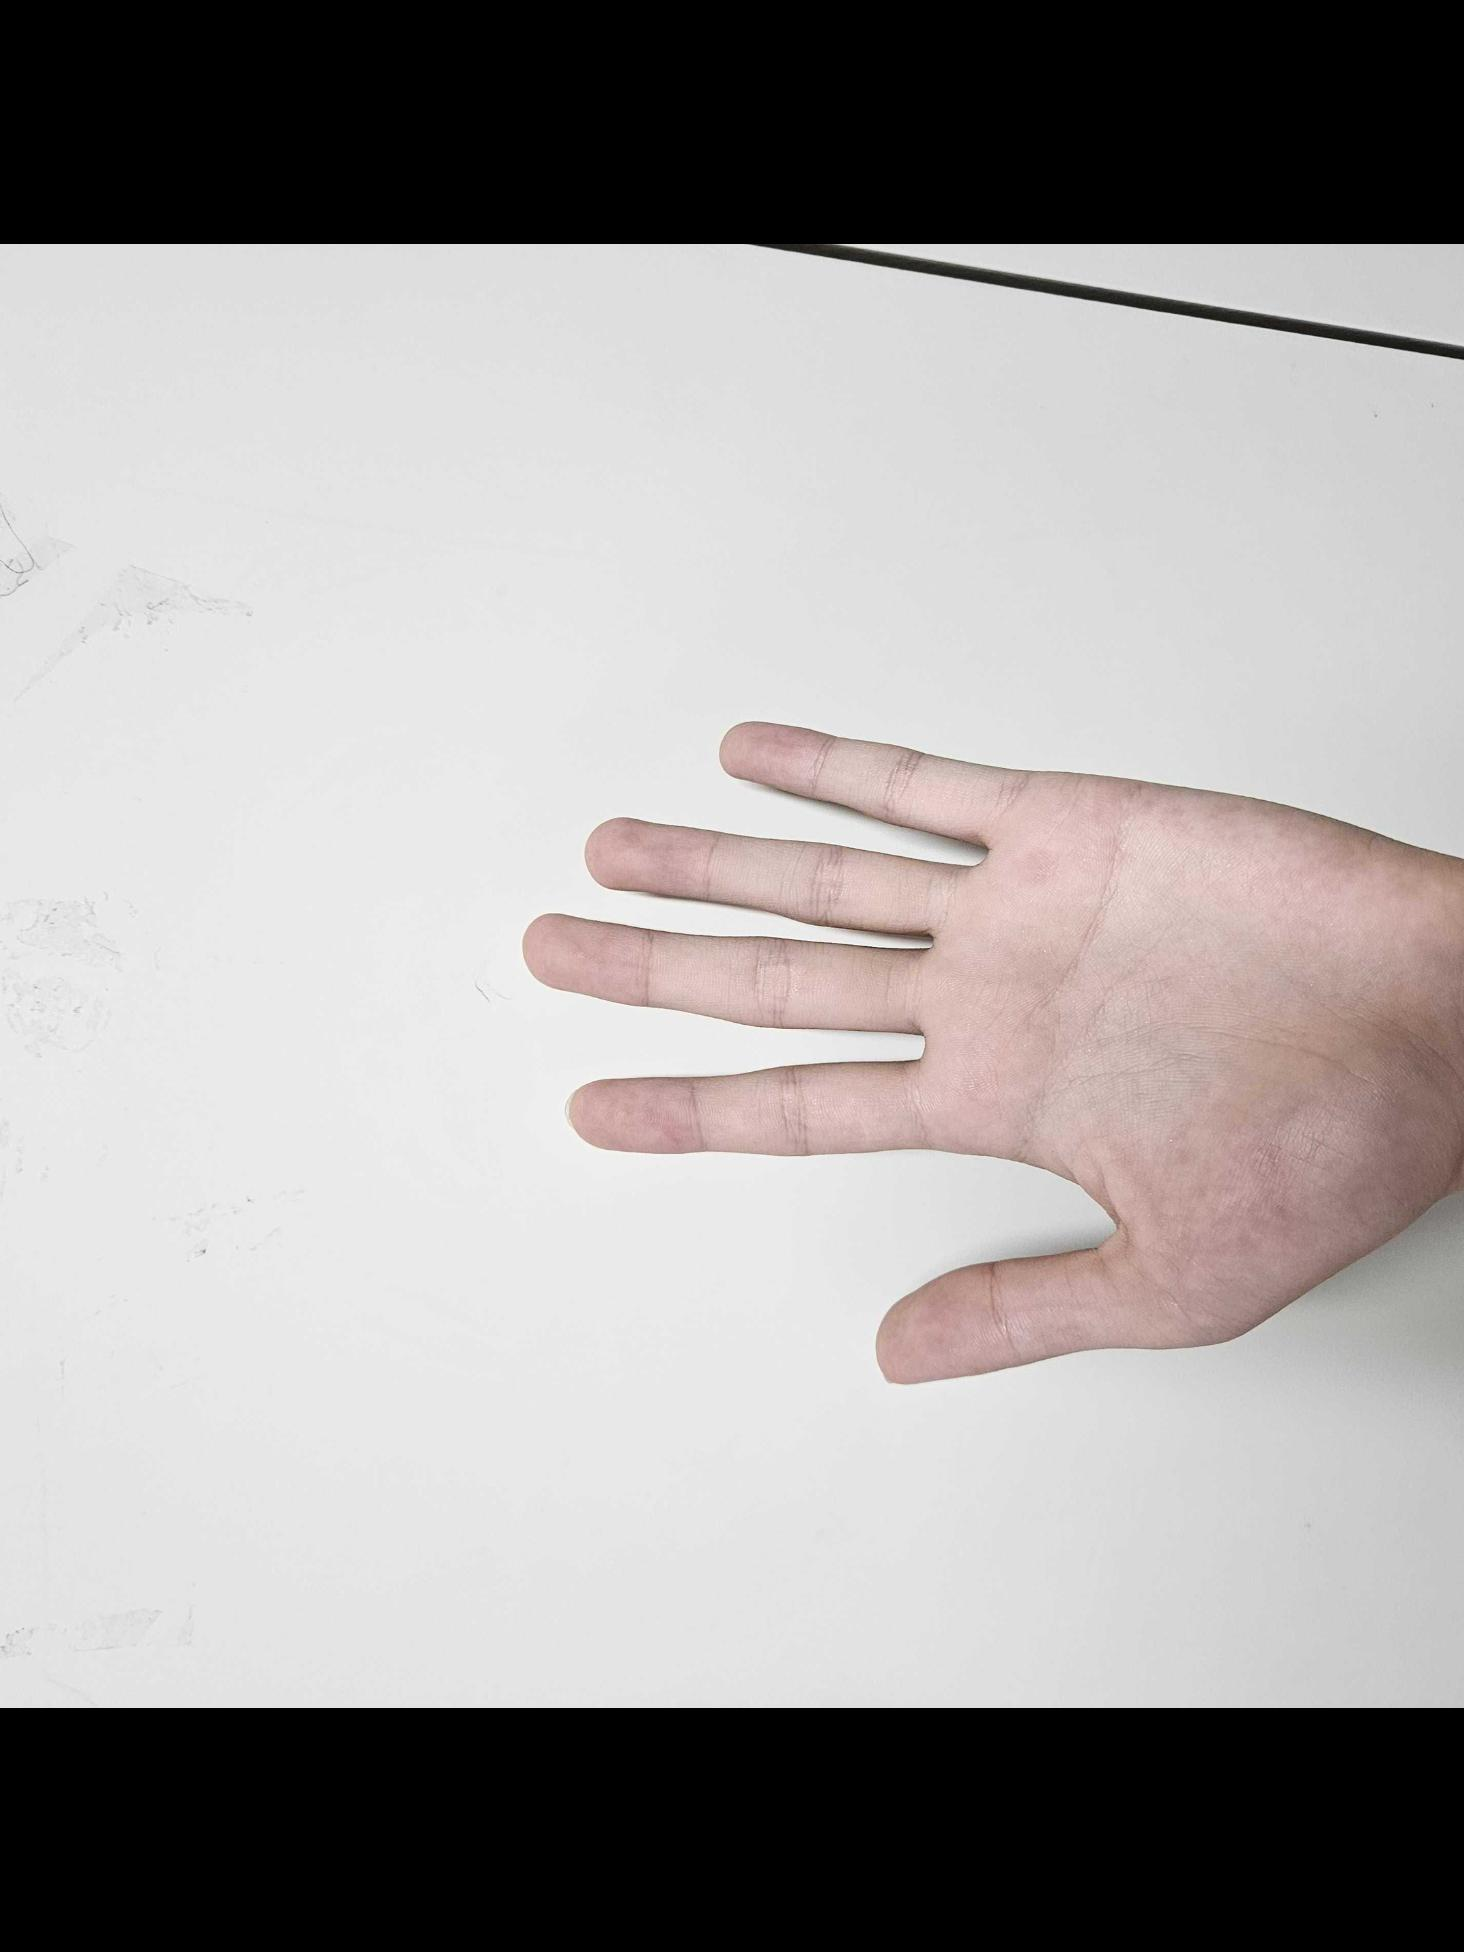open: (512, 710, 1464, 1389)
